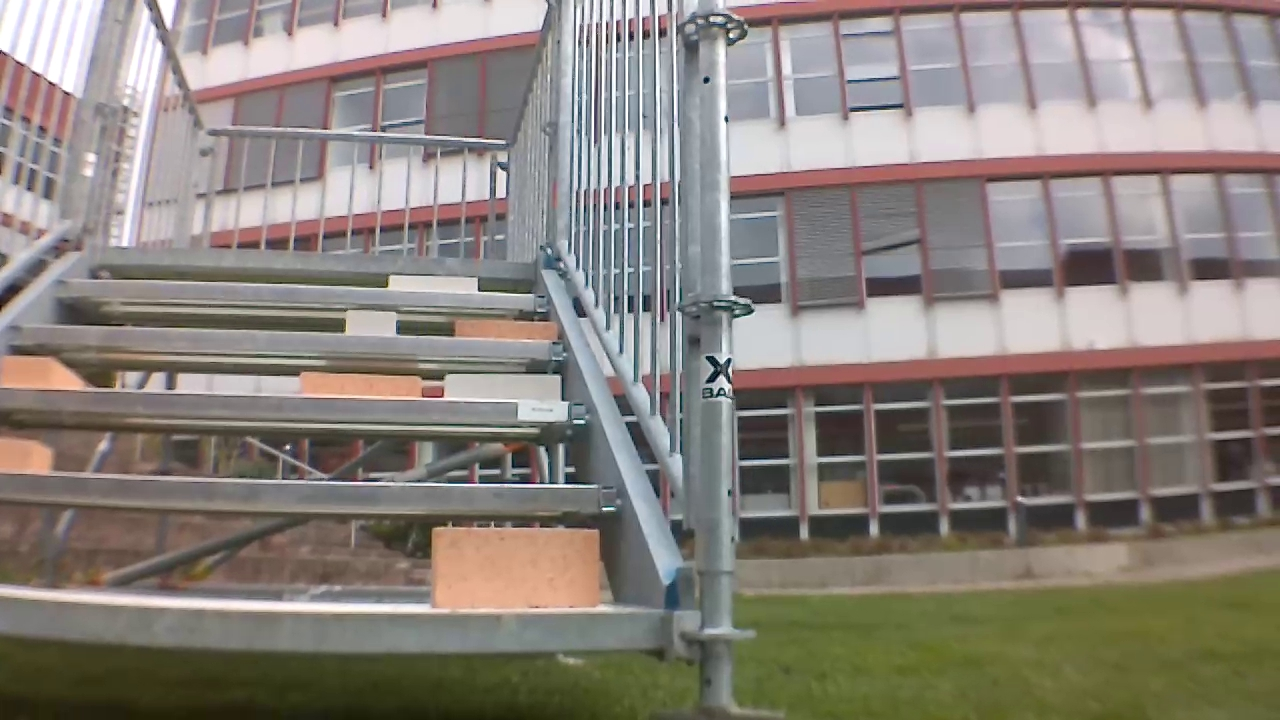brick: (432, 530, 608, 609), (290, 367, 414, 395), (441, 376, 562, 400), (447, 317, 557, 338), (9, 367, 82, 389), (343, 312, 405, 336), (385, 277, 477, 293), (0, 445, 53, 464)
edge: (0, 597, 688, 633), (0, 473, 621, 512), (55, 272, 549, 315), (0, 392, 599, 427), (5, 328, 565, 360), (85, 247, 542, 269)
stairs: (0, 0, 721, 709)
steps: (0, 256, 682, 648)
